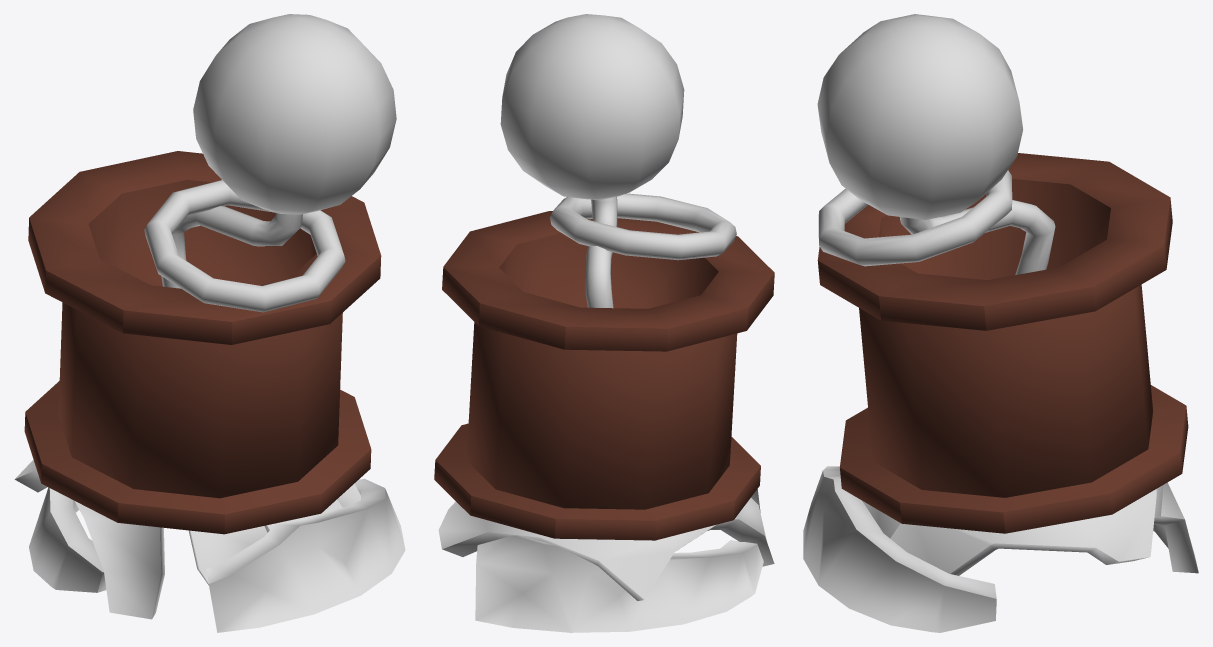
File: LightningBox_2.fbx
The picture shows the model from 3 angles, left to right: view 1: azimuth 30°, elevation 25°; view 2: azimuth 150°, elevation 25°; view 3: azimuth 270°, elevation 25°; orthographic projection. The views are drawn at different scales.
Visible parts, largest first — view 1: polySurface12.002; view 2: polySurface12.002; view 3: polySurface12.002.
Boxes of the visible parts, x1,y1,x2,y2 form: polySurface12.002: (14, 14, 405, 632); polySurface12.002: (434, 14, 774, 632); polySurface12.002: (803, 14, 1198, 632).
Bounding box in the file's own units: 225 × 363 × 233.
